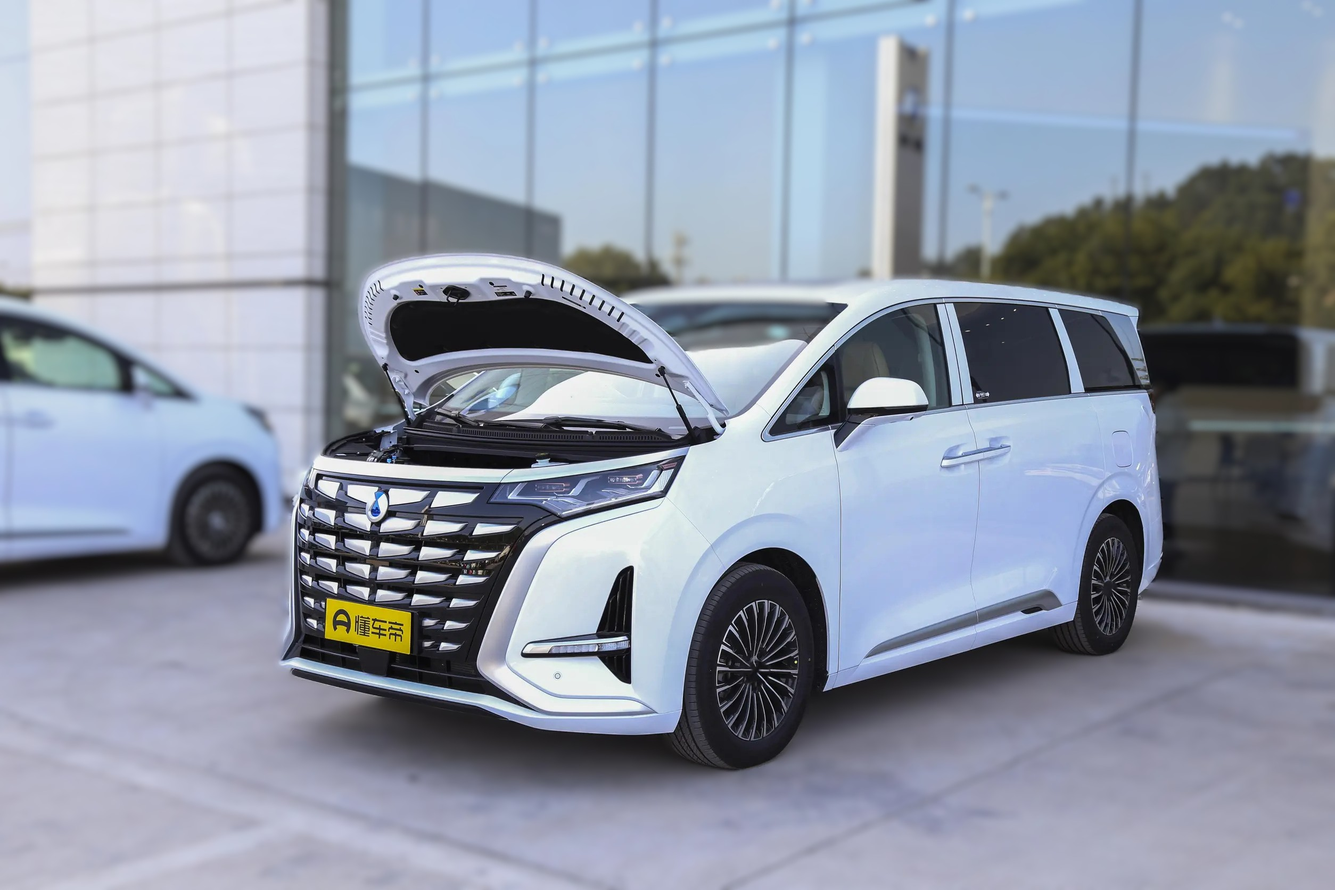DENZA: (366, 492, 388, 522)
